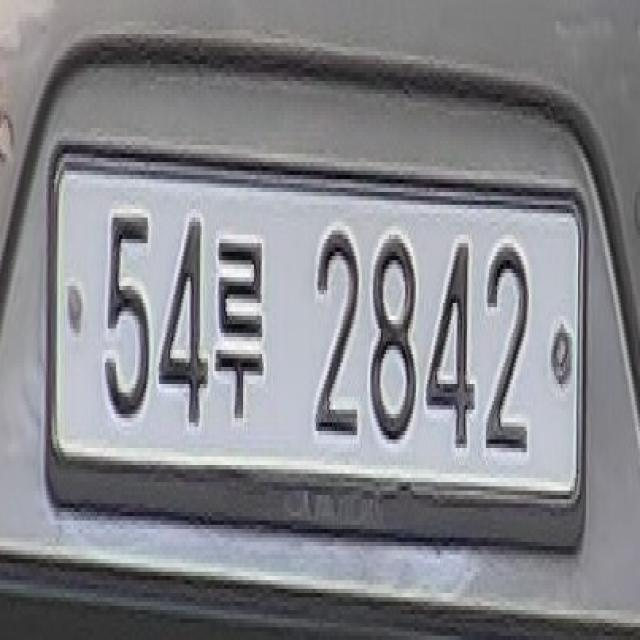2: (469, 214, 543, 486), (305, 175, 373, 461)
4: (148, 179, 214, 444), (421, 213, 487, 465)
5: (94, 175, 156, 444)
8: (368, 213, 421, 452)
license_plate: (38, 145, 594, 576)
lu: (211, 214, 280, 436)
